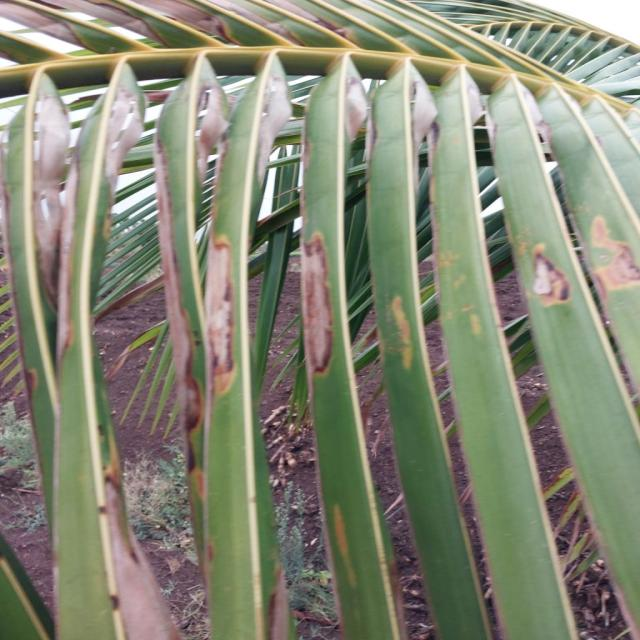gray leaf spot: (18, 86, 136, 330), (0, 0, 435, 61), (316, 66, 574, 160), (97, 470, 196, 640), (289, 230, 356, 404), (203, 231, 245, 418), (589, 206, 640, 304), (534, 250, 581, 327)
